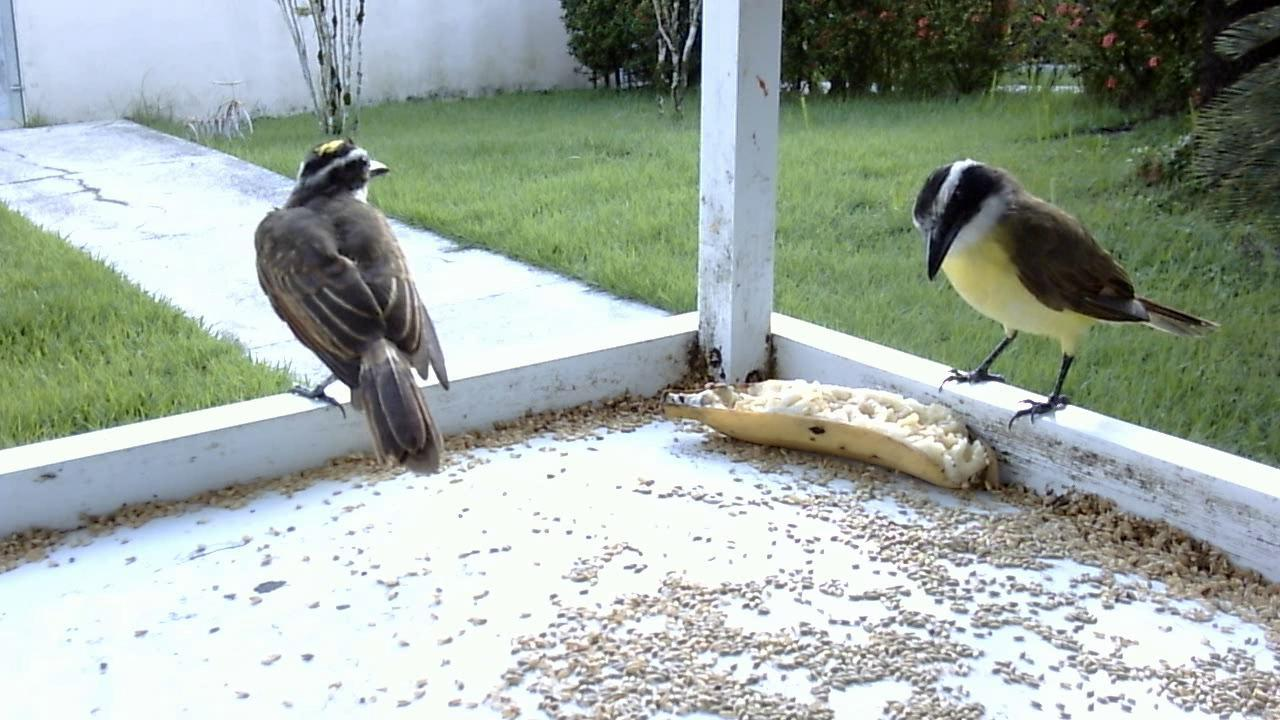bem_te_vi: (909, 148, 1226, 445), (239, 118, 455, 491)
